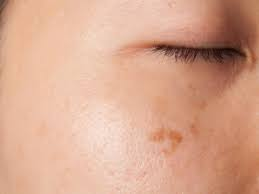Flek Hitam: (139, 83, 216, 164)
